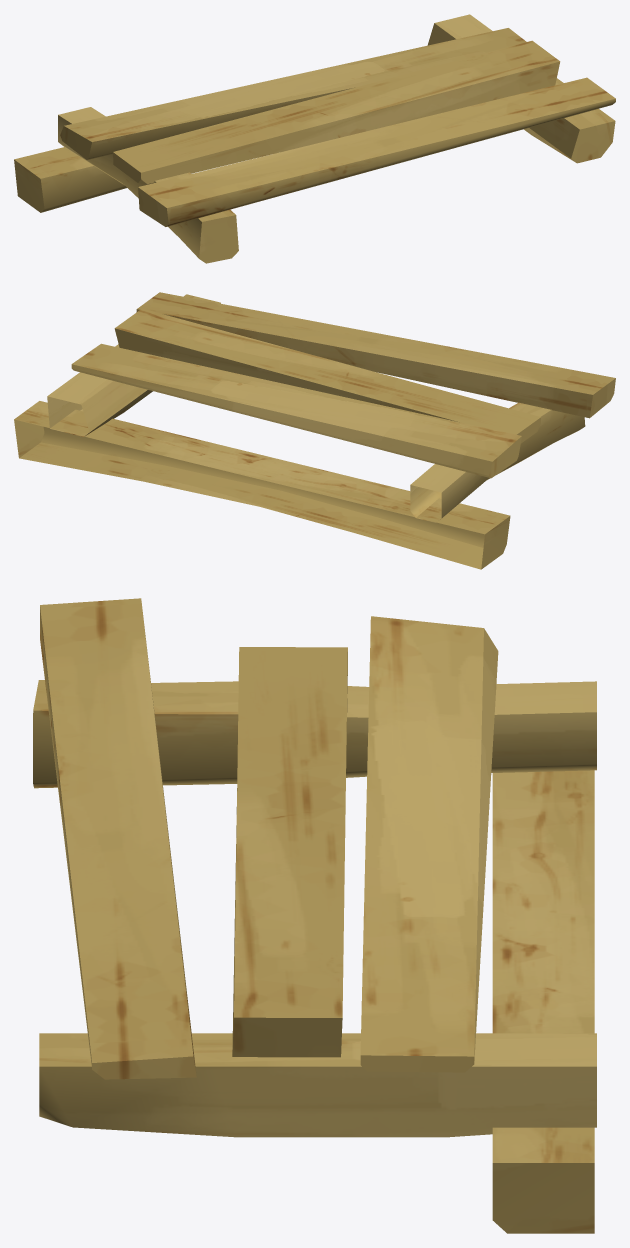
Rendered from V_Woodpiece.FBX.
The picture shows the model from 3 angles, top to bottom: view 1: azimuth 30°, elevation 25°; view 2: azimuth 150°, elevation 25°; view 3: azimuth 270°, elevation 25°; orthographic projection. The views are drawn at different scales.
Parts seen in each view (by area): view 1: Box015; view 2: Box015; view 3: Box015.
Boxes of the visible parts, bbox=[...] form: Box015: bbox=[14, 14, 615, 263]; Box015: bbox=[14, 292, 615, 569]; Box015: bbox=[33, 598, 596, 1233].
Size of the model in its own units: 302 by 56.91 by 157.
